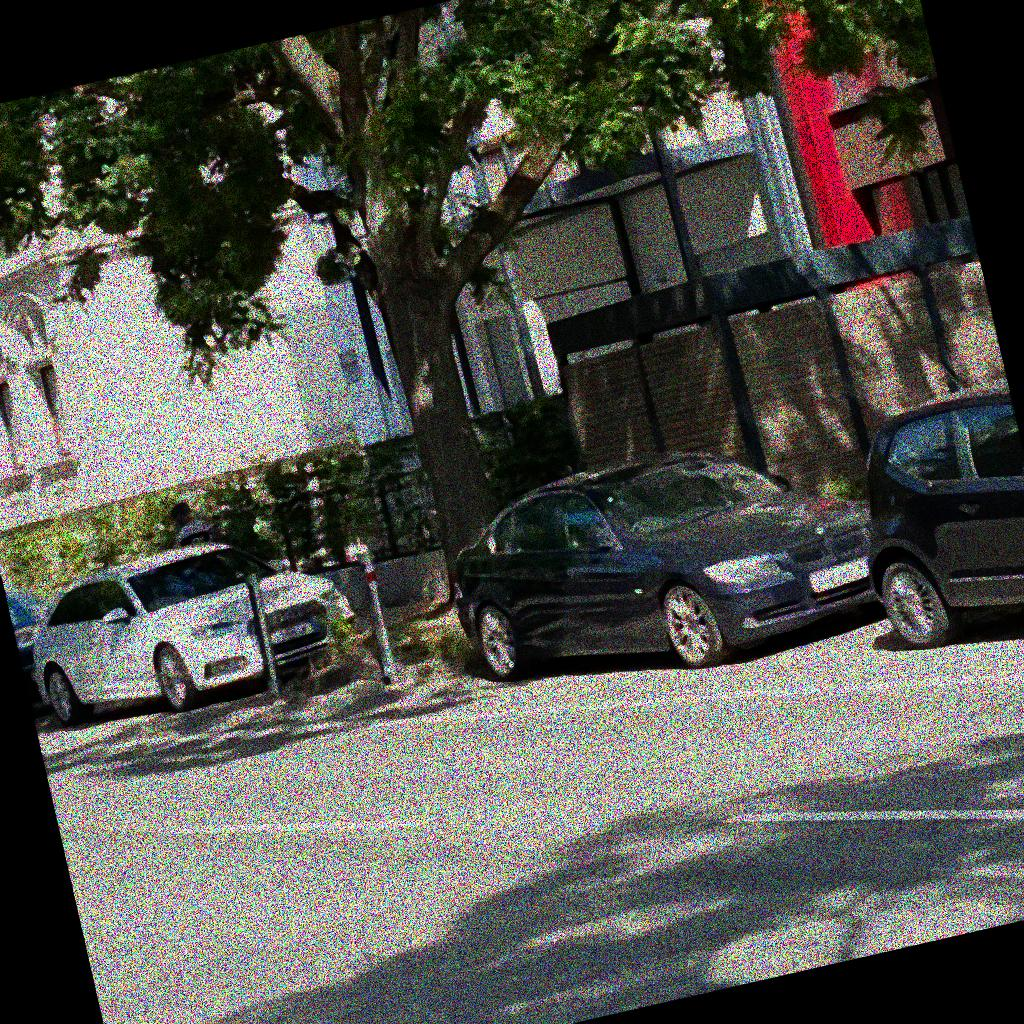tree: (1, 1, 933, 612)
